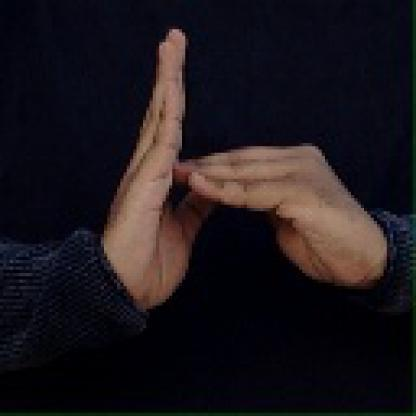Z: (98, 30, 363, 316)
